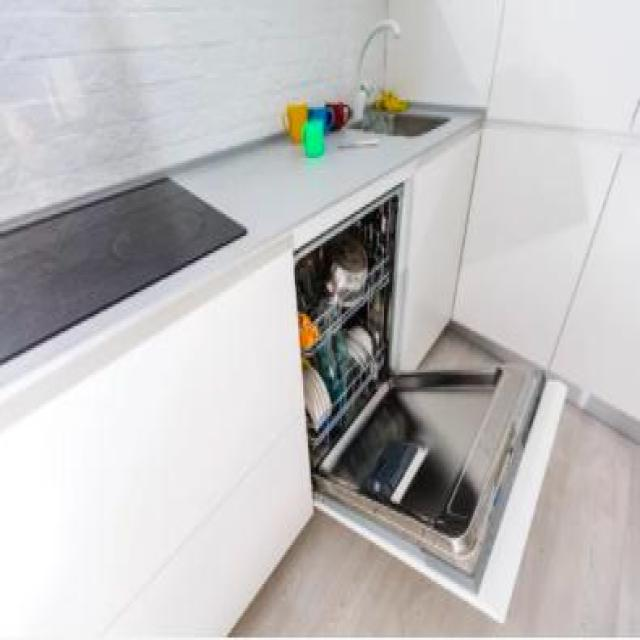dishwasher: (288, 173, 572, 640)
